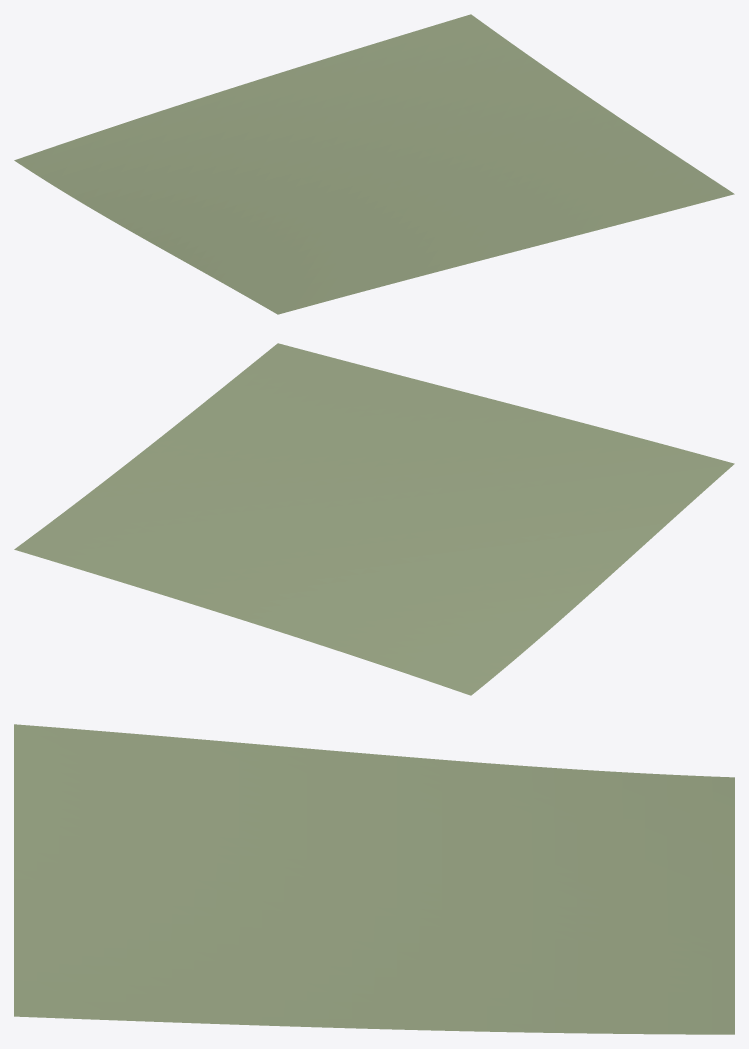
File: expanse-27-16.glb
3 renders of one model, top to bottom at view 1: azimuth 30°, elevation 25°; view 2: azimuth 150°, elevation 25°; view 3: azimuth 270°, elevation 25°, orthographic. The views are drawn at different scales.
Parts seen in each view (by area): view 1: expanse-27-16; view 2: expanse-27-16; view 3: expanse-27-16.
Part boxes in pixels (x1,y1,x2,y2): expanse-27-16: [14, 14, 734, 314]; expanse-27-16: [14, 343, 734, 695]; expanse-27-16: [14, 724, 734, 1034].
Bounding box in the file's own units: 256 × 25.65 × 256.
